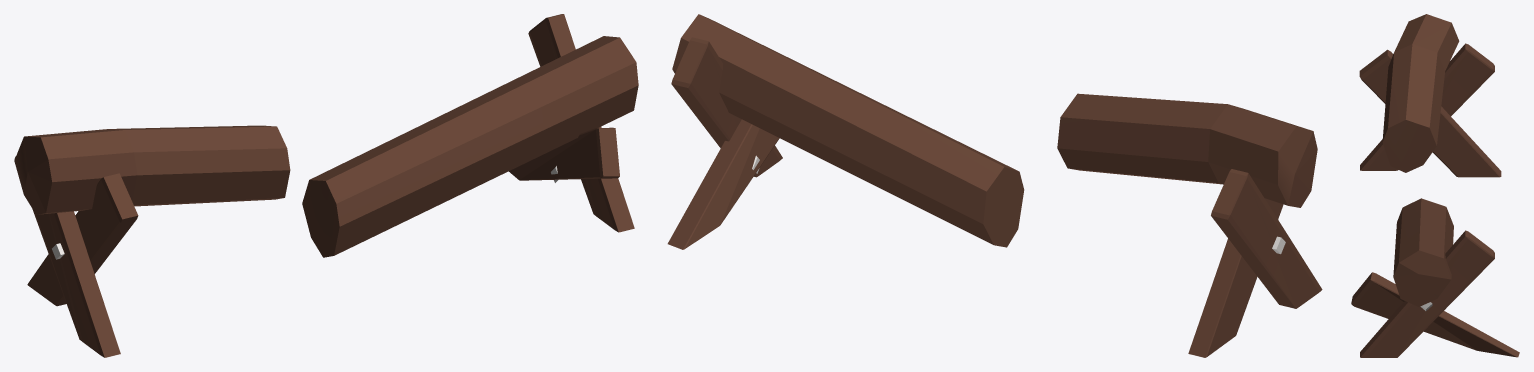
The model's file is WodenLog.fbx.
3 views of the same model, side by side, from view 1: azimuth 30°, elevation 25°; view 2: azimuth 150°, elevation 25°; view 3: azimuth 270°, elevation 25° (orthographic). The views are drawn at different scales.
Visible parts, largest first — view 1: WodenLog; view 2: WodenLog; view 3: WodenLog.
Part boxes in pixels (x1,y1,x2,y2): WodenLog: (14,14,638,357); WodenLog: (667,14,1322,357); WodenLog: (1351,14,1519,357).
Bounding box in the file's own units: 2.25 × 0.7323 × 0.7536.
